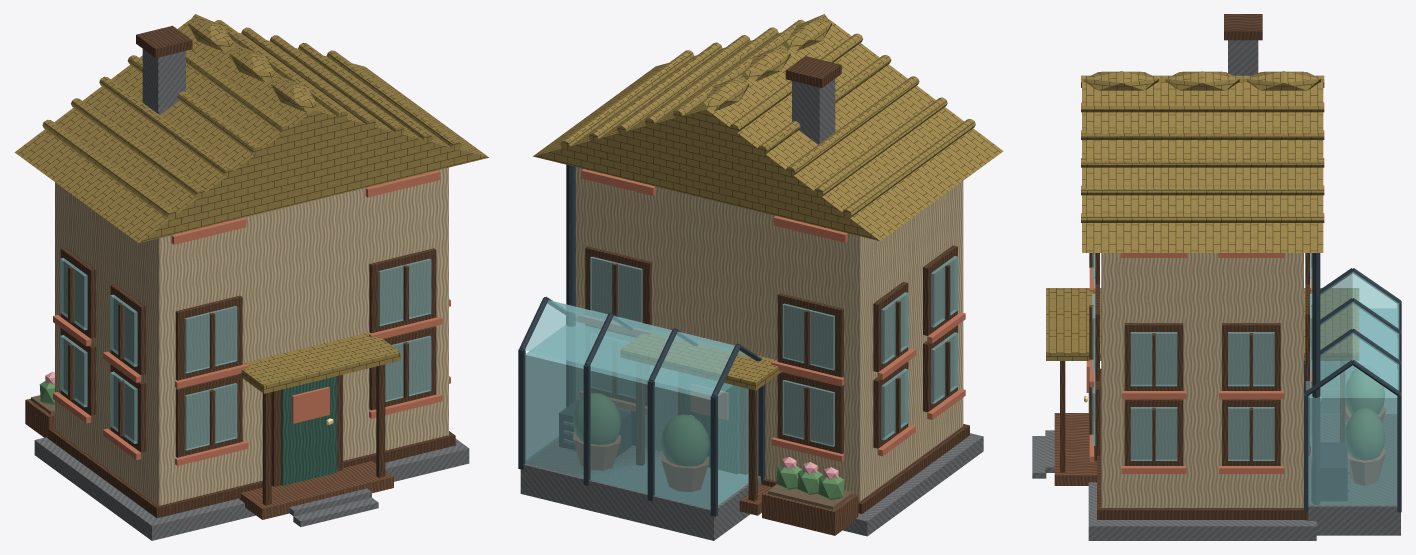
Rendered from house_cottage_lv5_greenhouse.glb.
3 views of the same model, side by side, from view 1: azimuth 30°, elevation 25°; view 2: azimuth 150°, elevation 25°; view 3: azimuth 270°, elevation 25° (orthographic). The views are drawn at different scales.
Parts seen in each view (by area): view 1: walls, gable_roof, foundation, front_porch_canopy, front_door, front_window_frame.003, front_window_frame.002, front_window_frame, floor_trim, front_deck, front_window_frame.001, front_window_glass.003 (+39 smaller); view 2: walls, gable_roof, greenhouse_glazing, greenhouse_roof, greenhouse_plinth, back_porch_canopy, back_window_frame.002, back_window_frame, back_window_frame.003, foundation, back_window_glass, back_window_glass.002 (+48 smaller); view 3: walls, gable_roof, greenhouse_glazing, greenhouse_roof, greenhouse_plinth, foundation, right_window_frame.002, right_window_frame.003, right_window_frame, right_window_frame.001, front_porch_canopy, floor_trim (+31 smaller).
Part boxes in pixels (x1,y1,x2,y2): walls: (55,167,448,505); gable_roof: (14,20,488,243); foundation: (34,437,469,540); front_porch_canopy: (238,332,400,393); front_door: (281,376,337,485); front_window_frame.003: (369,248,436,333); front_window_frame.002: (175,295,242,380); front_window_frame: (175,374,242,457); floor_trim: (48,427,455,518); front_deck: (239,461,393,519); front_window_frame.001: (369,326,436,410); front_window_glass.003: (378,258,431,326); walls: (575,167,963,501); gable_roof: (533,19,1003,241); greenhouse_glazing: (525,322,758,508); greenhouse_roof: (525,300,750,395); greenhouse_plinth: (520,439,761,540); back_porch_canopy: (620,333,781,390); back_window_frame.002: (777,293,843,377); back_window_frame: (777,371,843,453); back_window_frame.003: (585,246,651,324); foundation: (843,433,983,536); back_window_glass: (782,380,834,446); back_window_glass.002: (782,303,834,370); walls: (1101,253,1303,507); gable_roof: (1082,82,1323,252); greenhouse_glazing: (1308,308,1397,505); greenhouse_roof: (1306,272,1399,390); greenhouse_plinth: (1304,415,1400,535); foundation: (1088,393,1316,540); right_window_frame.002: (1124,323,1183,390); right_window_frame.003: (1222,323,1280,390); right_window_frame: (1124,399,1183,465); right_window_frame.001: (1222,399,1280,465); front_porch_canopy: (1046,288,1101,360); floor_trim: (1097,368,1308,519).
Size of the model in its own units: 6.6 by 7.6 by 6.19.
13 materials, 7 textured.
